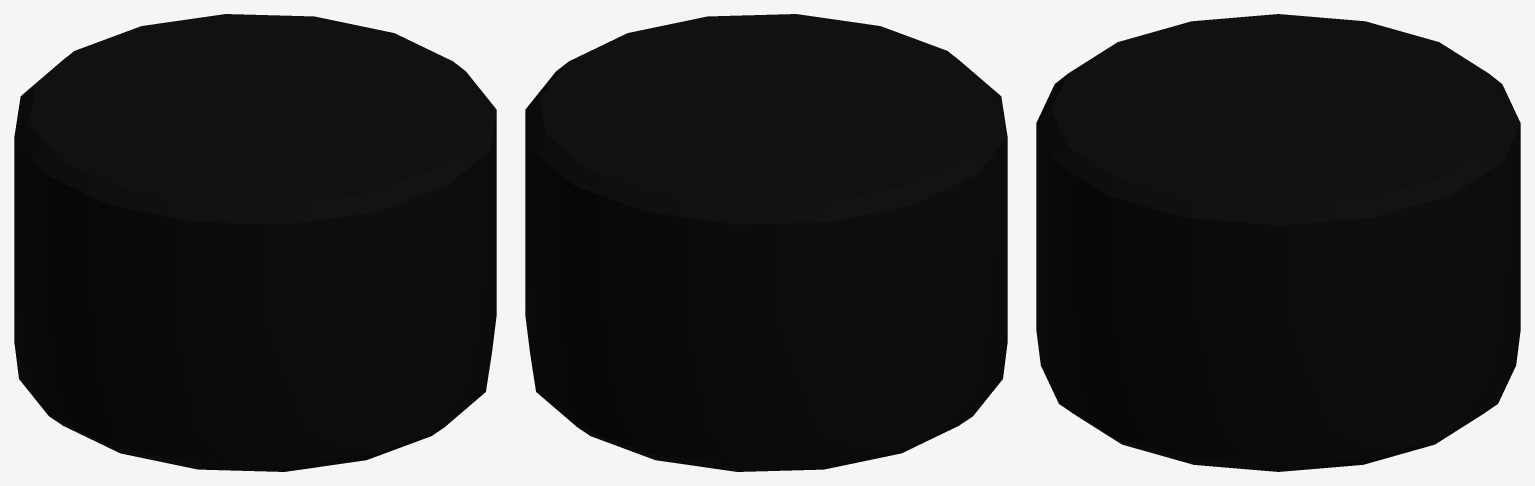
File: Body_Dress_20.fbx
3 views of the same model, side by side, from view 1: azimuth 30°, elevation 25°; view 2: azimuth 150°, elevation 25°; view 3: azimuth 270°, elevation 25° (orthographic).
Visible parts, largest first — view 1: Body_Dress_20; view 2: Body_Dress_20; view 3: Body_Dress_20.
Part boxes in pixels (x1,y1,x2,y2): Body_Dress_20: [14, 14, 496, 471]; Body_Dress_20: [525, 14, 1007, 471]; Body_Dress_20: [1036, 14, 1520, 471].
Bounding box in the file's own units: 100 × 61.13 × 100.
